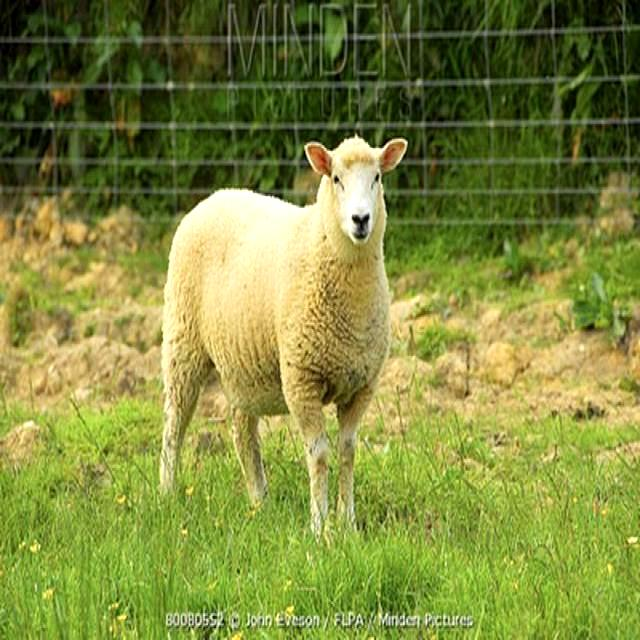sheep: (154, 138, 406, 527)
